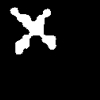single_crochet: (10, 8, 55, 53)
